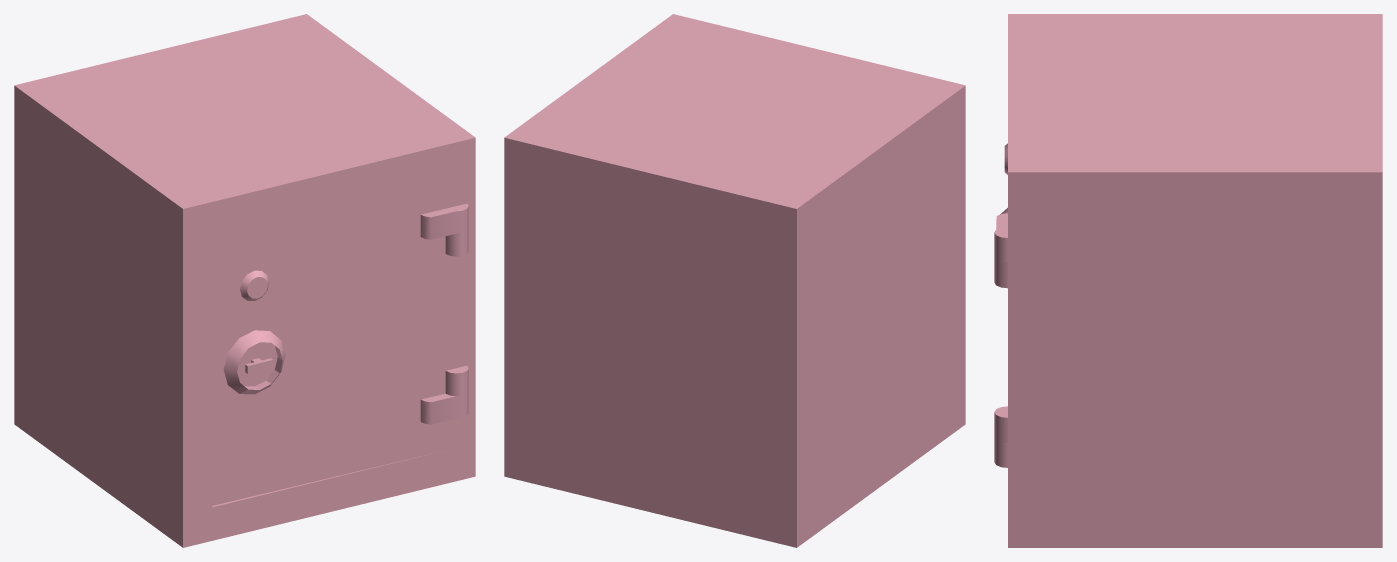
Rendered from Safe.fbx.
3 renders of one model, left to right at view 1: azimuth 30°, elevation 25°; view 2: azimuth 150°, elevation 25°; view 3: azimuth 270°, elevation 25°, orthographic. The views are drawn at different scales.
Visible parts, largest first — view 1: Safe, SafeDoor; view 2: Safe; view 3: Safe, SafeDoor.
Part boxes in pixels (<box>): Safe: <box>14,14,475,547</box>; SafeDoor: <box>212,173,468,505</box>; Safe: <box>504,14,965,547</box>; Safe: <box>994,14,1382,547</box>; SafeDoor: <box>994,143,1007,467</box>.
Size of the model in its own units: 64.29 by 71.15 by 66.66.
